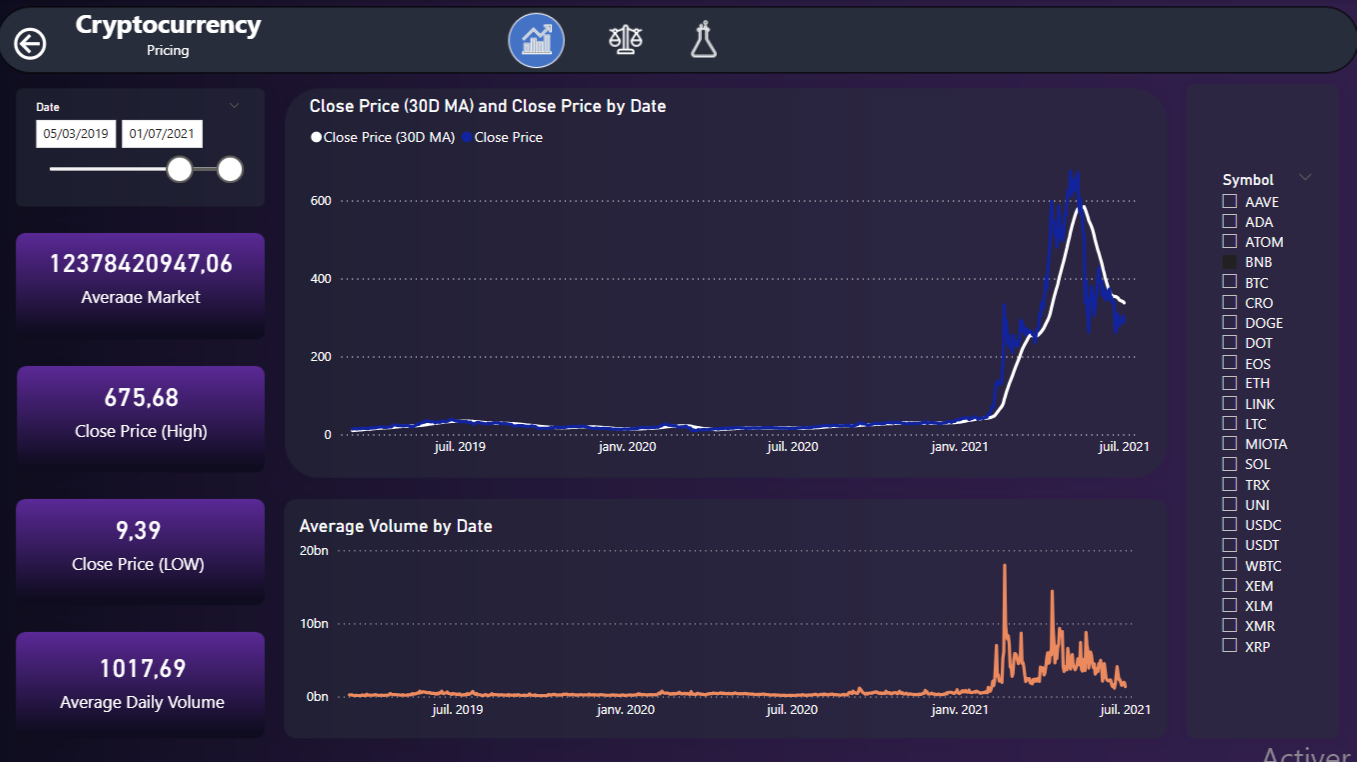

The page's visual inventory and layout, read from the dashboard file:
{"tool":"powerbi","page":{"name":"Cryptocurrency Pricing","canvas":[1280,720],"ordinal":1},"visuals":[{"type":"lineChart","fields":{"Category":["Dates.Date"],"Y":["Key Measures.Close Price (30D MA)","Key Measures.Close Price"]},"box":[289.6,88.8,799.4,349.2],"z":0},{"type":"slicer","fields":{"Values":["Dates.Date"]},"box":[24.3,88.8,216.6,99.8],"z":1000},{"type":"card","fields":{"Values":["Key Measures.Average Market"]},"box":[40.2,222.7,191,66.9],"z":2000},{"type":"card","fields":{"Values":["Key Measures.Close Price (High)"]},"box":[34.1,343.1,203.2,79.1],"z":3000},{"type":"card","fields":{"Values":["Key Measures.Close Price (LOW)"]},"box":[30.4,469.7,203.2,75.4],"z":4000},{"type":"lineChart","fields":{"Category":["Dates.Date"],"Y":["Key Measures.Average Volume"]},"box":[278.6,483,810.3,200.8],"z":5000},{"type":"card","fields":{"Values":["Key Measures.Average Daily Volume"]},"box":[28,599.8,216.6,75.4],"z":6000},{"type":"slicer","fields":{"Values":["Crypto symbols.Symbol"]},"box":[1138.9,155.7,109.5,469.7],"z":7000},{"type":"textbox","box":[60.8,0,200.8,68.1],"z":8000},{"type":"actionButton","box":[464.2,12.5,81.3,54.7],"z":9000},{"type":"actionButton","box":[640,14.6,66.9,53.5],"z":10000},{"type":"actionButton","box":[11,7.3,40.2,68.1],"z":11000},{"type":"actionButton","box":[11,7.3,40.2,66.9],"z":12000}]}

Visuals, with their boxes in screenshot pixels (x1, y1, x2, y2), scaled from the page's 1280x720 canvas onto the 1357x762 screenshot:
lineChart - Dates.Date x Key Measures.Close Price (30D MA): 307, 94, 1155, 464
slicer - Dates.Date: 26, 94, 255, 200
card - Key Measures.Average Market: 43, 236, 245, 306
card - Key Measures.Close Price (High): 36, 363, 252, 447
card - Key Measures.Close Price (LOW): 32, 497, 248, 577
lineChart - Dates.Date x Key Measures.Average Volume: 295, 511, 1154, 724
card - Key Measures.Average Daily Volume: 30, 635, 259, 715
slicer - Crypto symbols.Symbol: 1207, 165, 1323, 662
textbox: 64, 0, 277, 72
actionButton: 492, 13, 578, 71
actionButton: 678, 15, 749, 72
actionButton: 12, 8, 54, 80
actionButton: 12, 8, 54, 79
